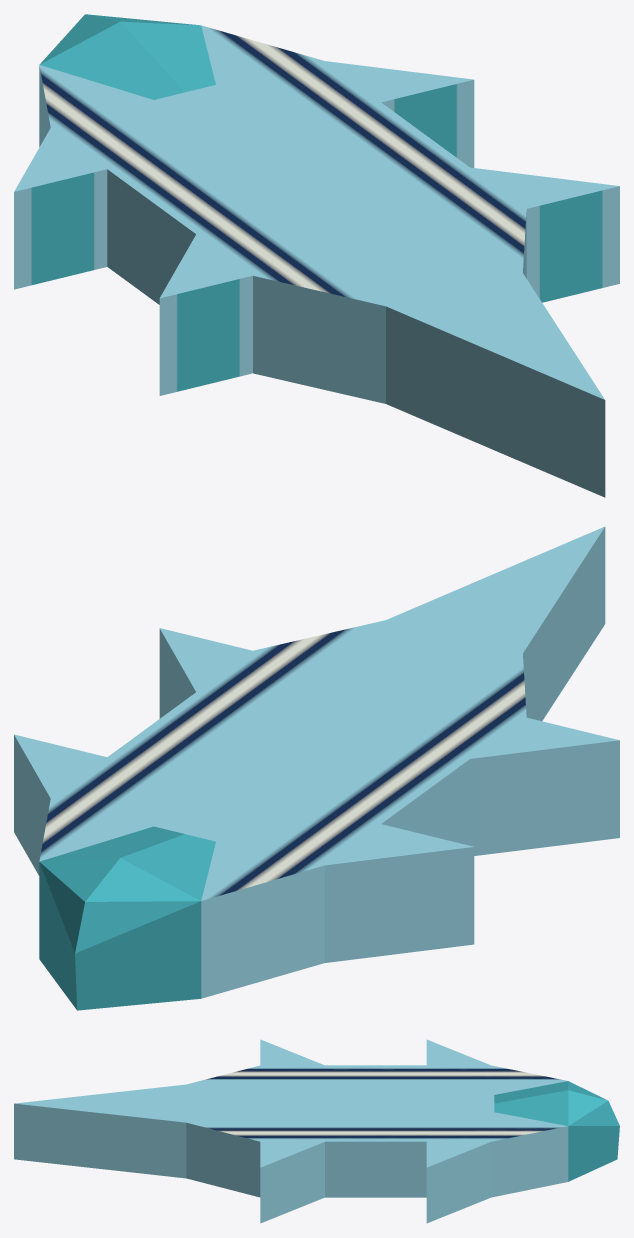
The model's file is ship3.fbx.
The picture shows the model from 3 angles, top to bottom: view 1: azimuth 30°, elevation 25°; view 2: azimuth 150°, elevation 25°; view 3: azimuth 270°, elevation 25°; orthographic projection. The views are drawn at different scales.
Parts seen in each view (by area): view 1: Sphere.001; view 2: Sphere.001; view 3: Sphere.001.
Boxes of the visible parts, x1,y1,x2,y2 form: Sphere.001: (14,14,619,497); Sphere.001: (14,526,619,1010); Sphere.001: (14,1039,619,1223).
Bounding box in the file's own units: 247 × 62.01 × 492.
